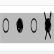correct: (16, 17, 24, 34)
no answer: (2, 16, 10, 36), (30, 16, 38, 35)
not correct: (43, 10, 52, 42)
